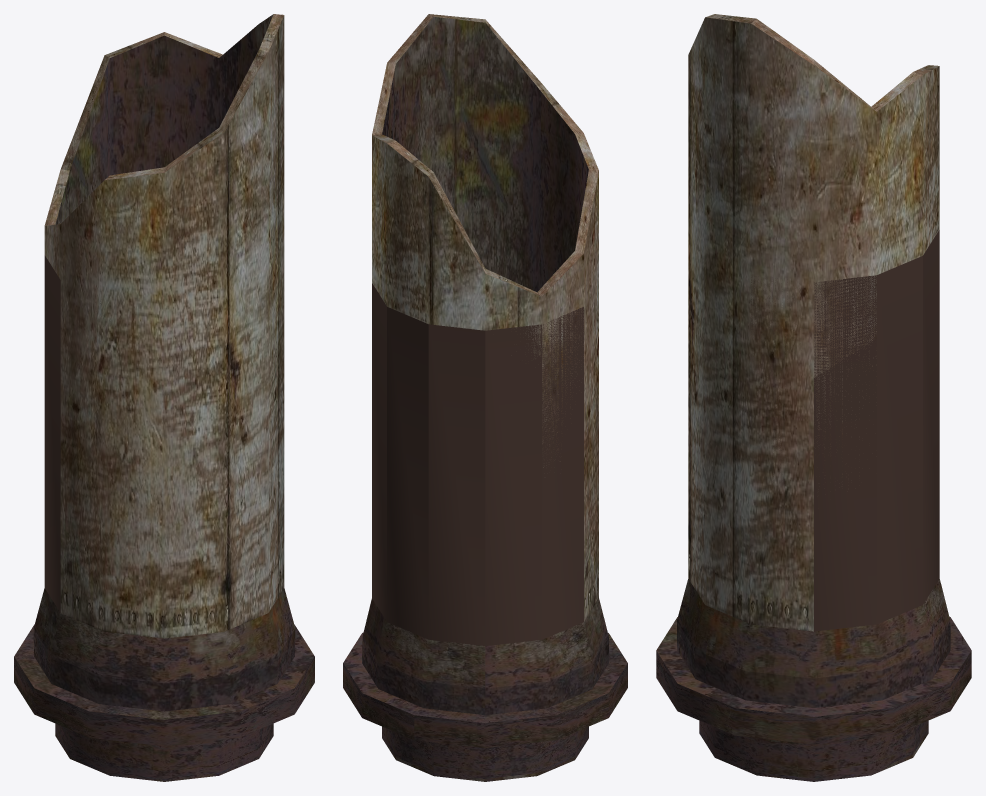
Rendered from railpipe_sd01.glb.
3 views of the same model, side by side, from view 1: azimuth 30°, elevation 25°; view 2: azimuth 150°, elevation 25°; view 3: azimuth 270°, elevation 25° (orthographic). The views are drawn at different scales.
Bounding box in the file's own units: 41.38 × 110 × 41.38.
Materials: 3 (3 with a texture image).
